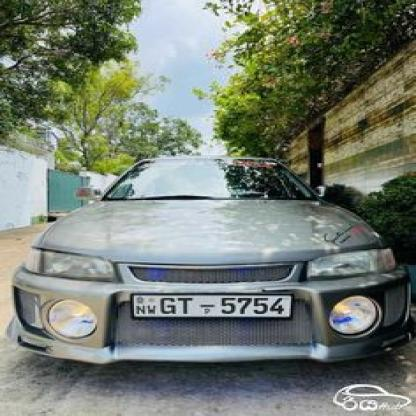car front: (7, 145, 416, 376)
number plate: (124, 294, 291, 320)
